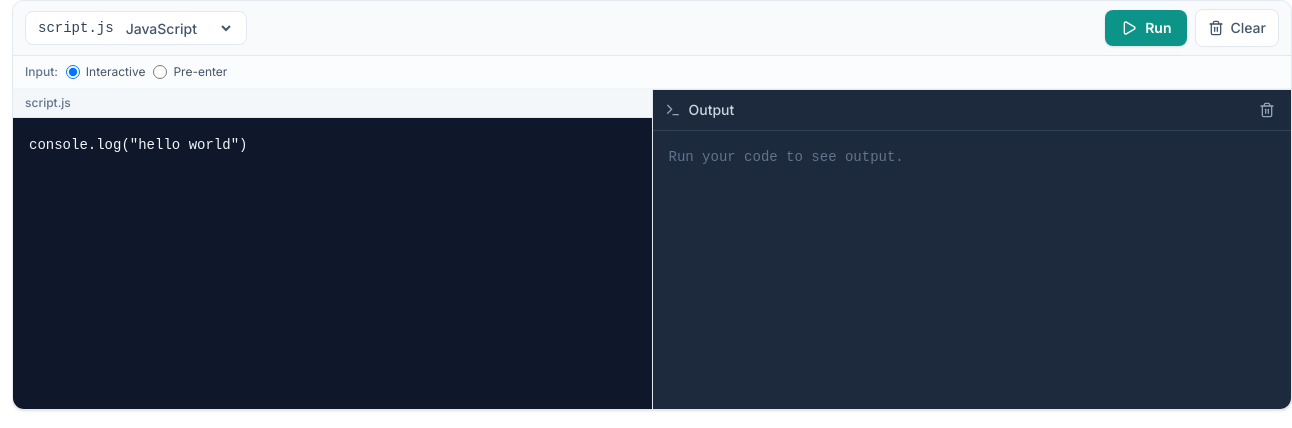
Test: CodeBlock › JavaScript execution › runs JavaScript and shows output
Click the button "Run". click: click(1146, 28)
box: [1105, 10, 1188, 46]
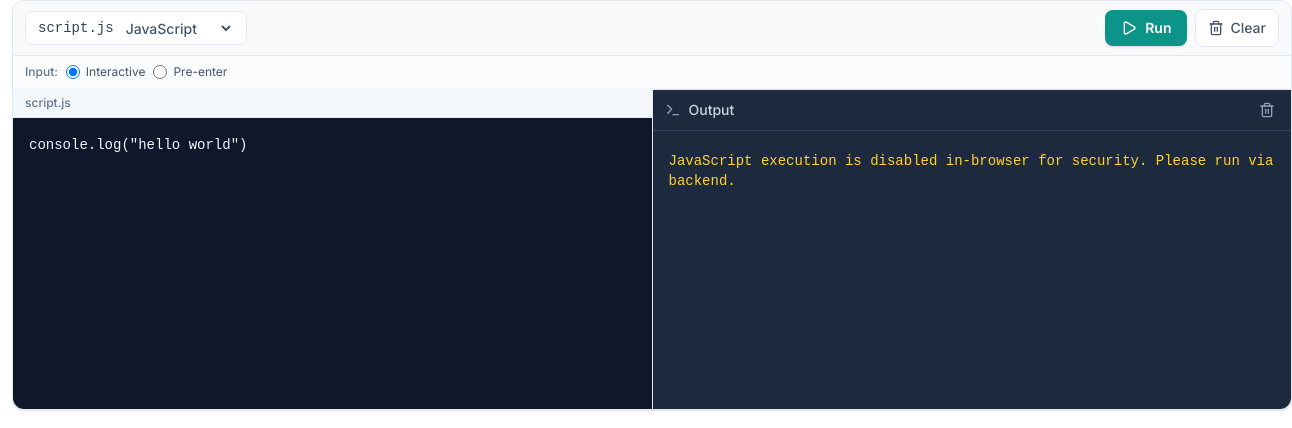
Result: the text "JavaScript execution is disabled in-browser for security" is shown at [668, 153, 1282, 189]
